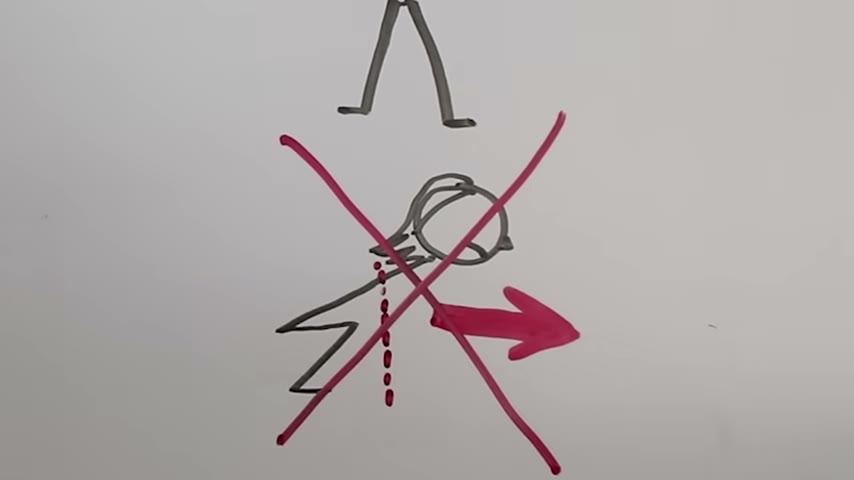barbell_plate_side: (460, 108, 560, 422), (268, 120, 347, 446), (332, 1, 392, 119)
